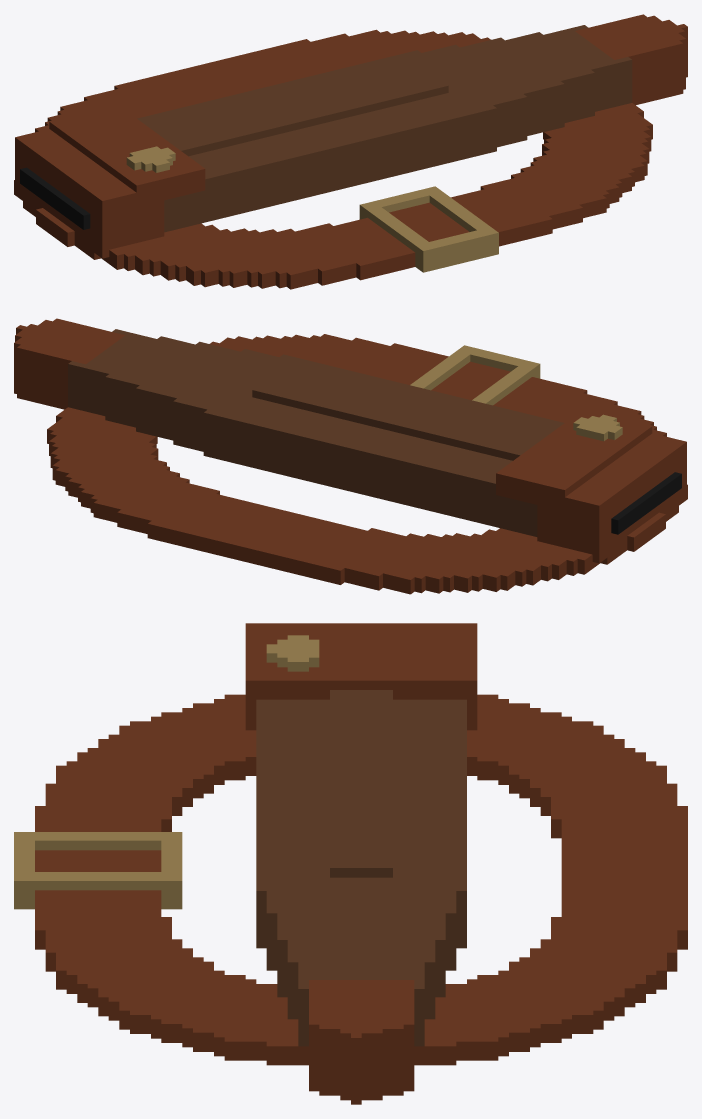
The model's file is bootsheath.glb.
3 views of the same model, one above another, from view 1: azimuth 30°, elevation 25°; view 2: azimuth 150°, elevation 25°; view 3: azimuth 270°, elevation 25° (orthographic). The views are drawn at different scales.
Visible parts, largest first — view 1: bootsheath:compound; view 2: bootsheath:compound; view 3: bootsheath:compound.
Boxes of the visible parts, <box> form: bootsheath:compound: <box>14,14,687,289</box>; bootsheath:compound: <box>14,318,687,594</box>; bootsheath:compound: <box>14,623,687,1104</box>.
Bounding box in the file's own units: 0.184 × 0.022 × 0.128.
